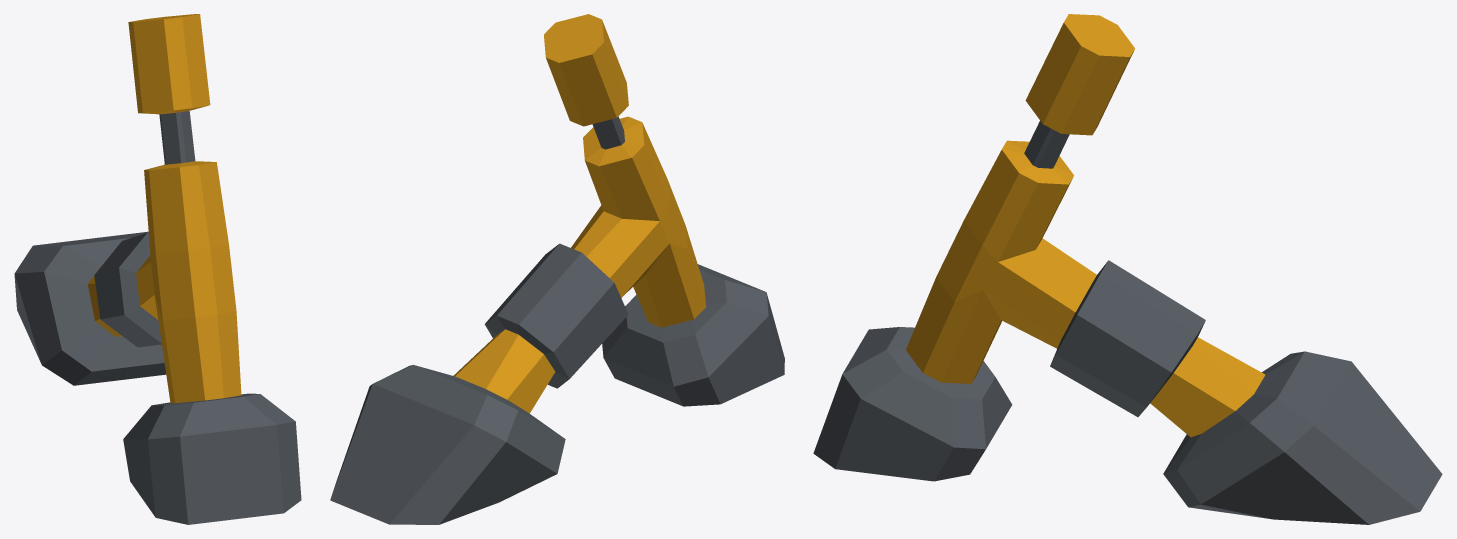
File: Dropship_04_Lander_Rear_Left_Yellow.fbx
3 renders of one model, left to right at view 1: azimuth 30°, elevation 25°; view 2: azimuth 150°, elevation 25°; view 3: azimuth 270°, elevation 25°, orthographic. The views are drawn at different scales.
Visible parts, largest first — view 1: Dropship_04_Lander_Rear_Left_Yellow; view 2: Dropship_04_Lander_Rear_Left_Yellow; view 3: Dropship_04_Lander_Rear_Left_Yellow.
Boxes of the visible parts, bbox=[...] form: Dropship_04_Lander_Rear_Left_Yellow: bbox=[14, 14, 301, 524]; Dropship_04_Lander_Rear_Left_Yellow: bbox=[330, 14, 784, 524]; Dropship_04_Lander_Rear_Left_Yellow: bbox=[813, 14, 1442, 524].
Bounding box in the file's own units: 136 × 227 × 289.
1 material, 1 textured.
